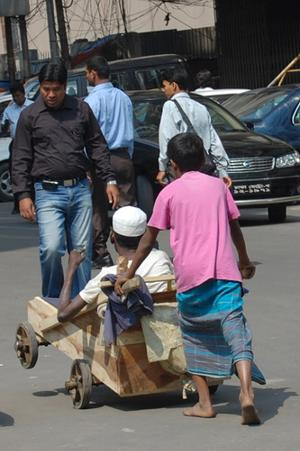person: (114, 132, 261, 431)
